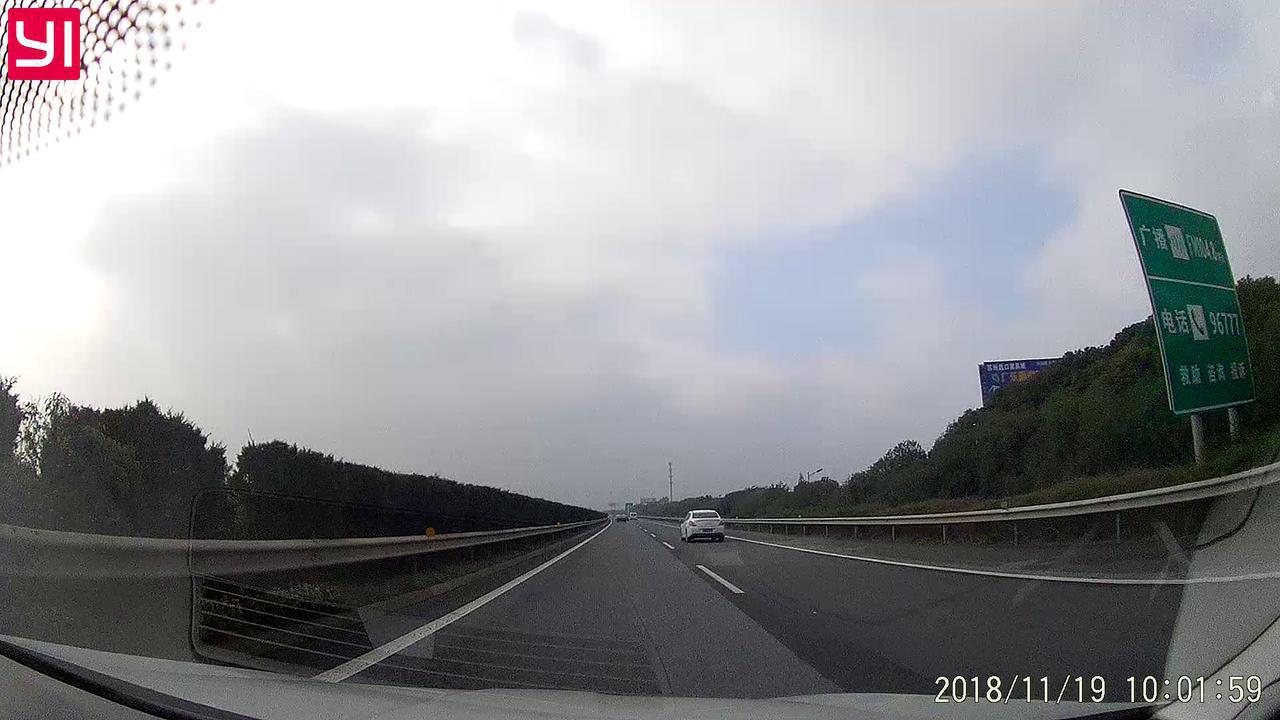car: (678, 509, 723, 542)
